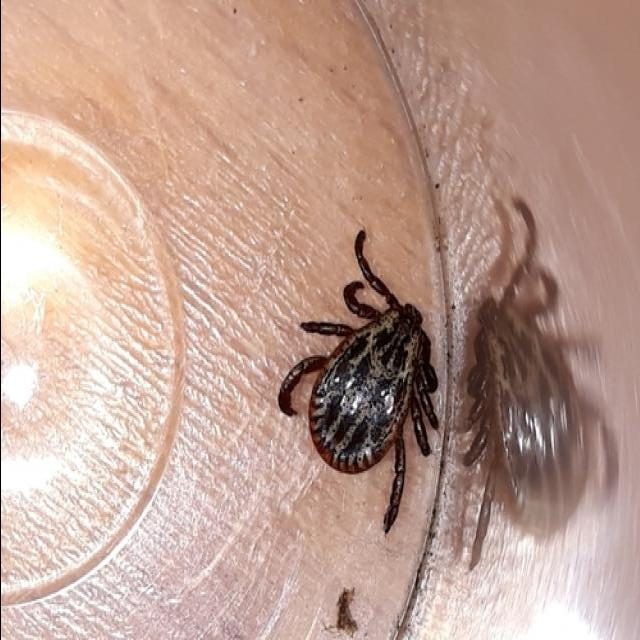Dermacentor Reticulatus-M: (276, 230, 438, 534)
